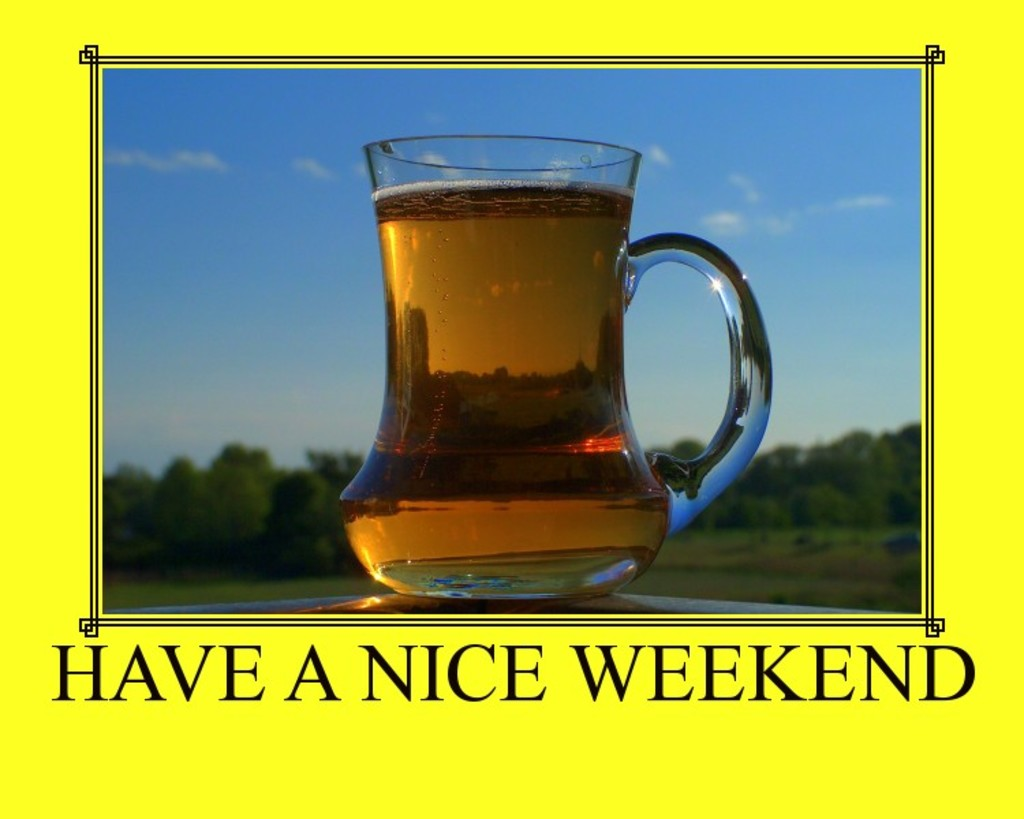Beer: (338, 134, 772, 598)
